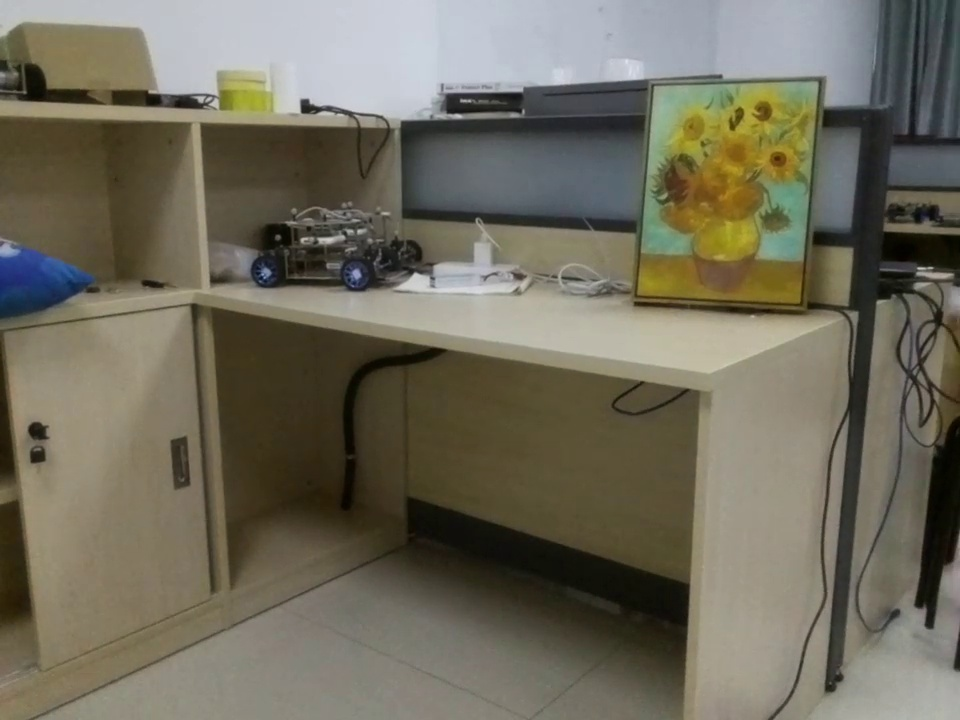painting: (635, 72, 828, 309)
